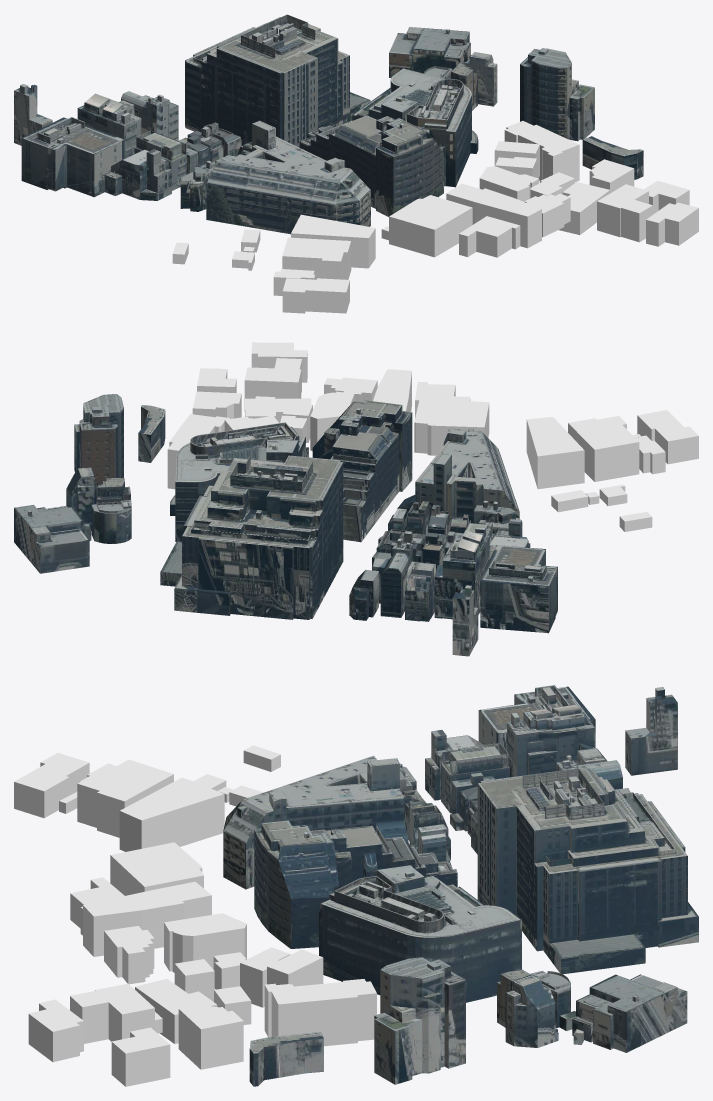
The model's file is building_-2_1.glb.
3 renders of one model, top to bottom at view 1: azimuth 30°, elevation 25°; view 2: azimuth 150°, elevation 25°; view 3: azimuth 270°, elevation 25°, orthographic. The views are drawn at different scales.
Size of the model in its own units: 195 by 43.11 by 179.
2 materials, 1 textured.
